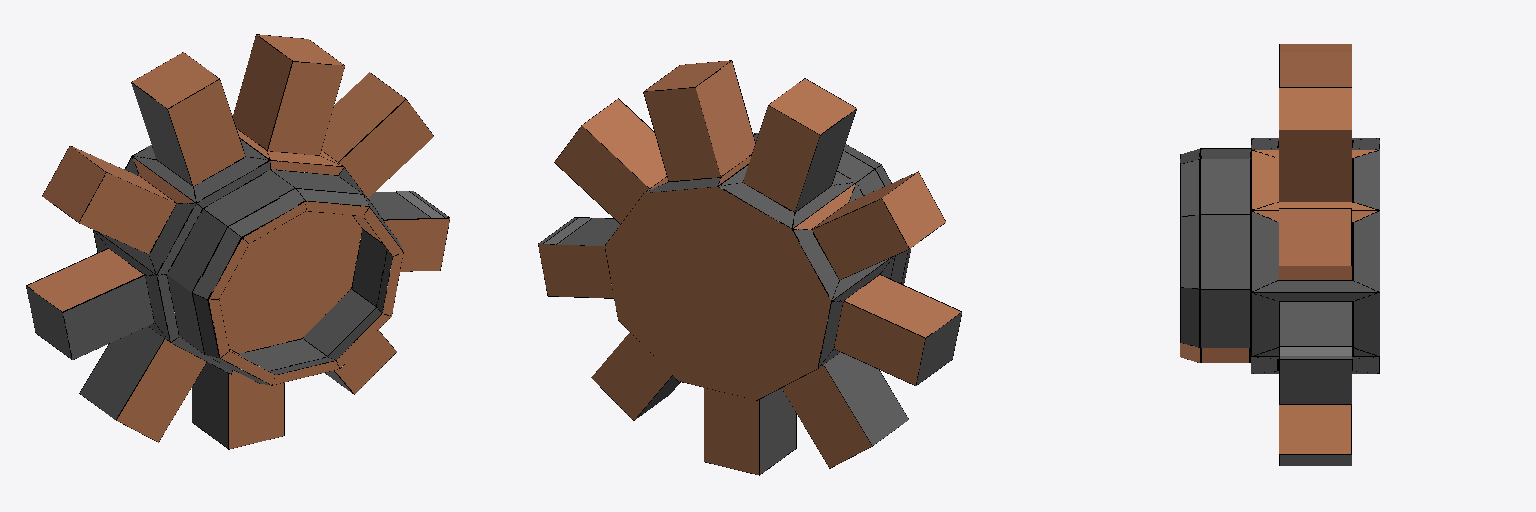
3 renders of one model, left to right at view 1: azimuth 30°, elevation 25°; view 2: azimuth 150°, elevation 25°; view 3: azimuth 270°, elevation 25°, orthographic.
Visible parts, largest first — view 1: Beam_to_gear_Cylinder.002; view 2: Beam_to_gear_Cylinder.002; view 3: Beam_to_gear_Cylinder.002.
Boxes of the visible parts, box(x1,y1,x2,y2) form: Beam_to_gear_Cylinder.002: box(26, 34, 449, 449); Beam_to_gear_Cylinder.002: box(538, 60, 961, 475); Beam_to_gear_Cylinder.002: box(1180, 44, 1379, 465).
Size of the model in its own units: 1.61 by 1.48 by 0.7225.
1 materials, 1 textured.